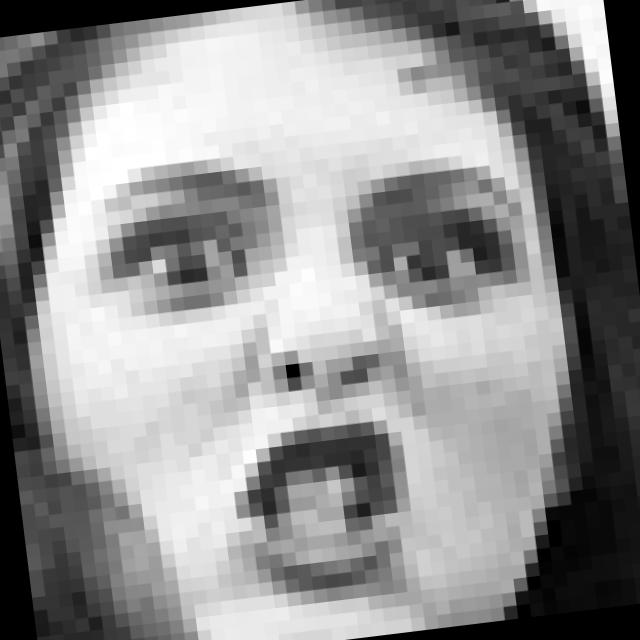angry: (76, 113, 568, 611)
